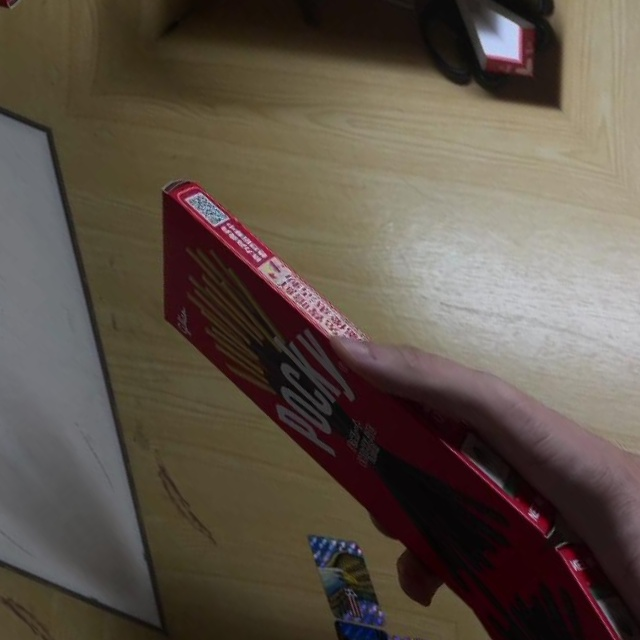Pocky: (100, 130, 570, 640)
